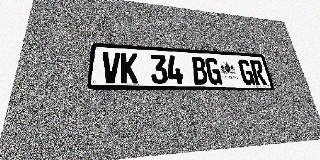3: (150, 54, 168, 84)
4: (166, 55, 184, 84)
B: (191, 57, 209, 84)
G: (237, 59, 256, 85), (205, 57, 223, 84)
K: (121, 53, 138, 84)
R: (249, 60, 267, 85)
V: (101, 52, 120, 83)
